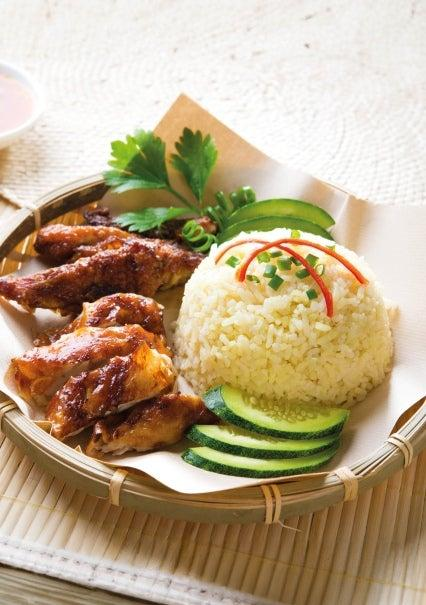daging: (67, 270, 148, 412)
makanan_berpati: (222, 324, 365, 389)
